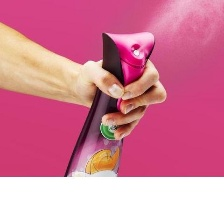aerosol_cans: (49, 25, 162, 222)
